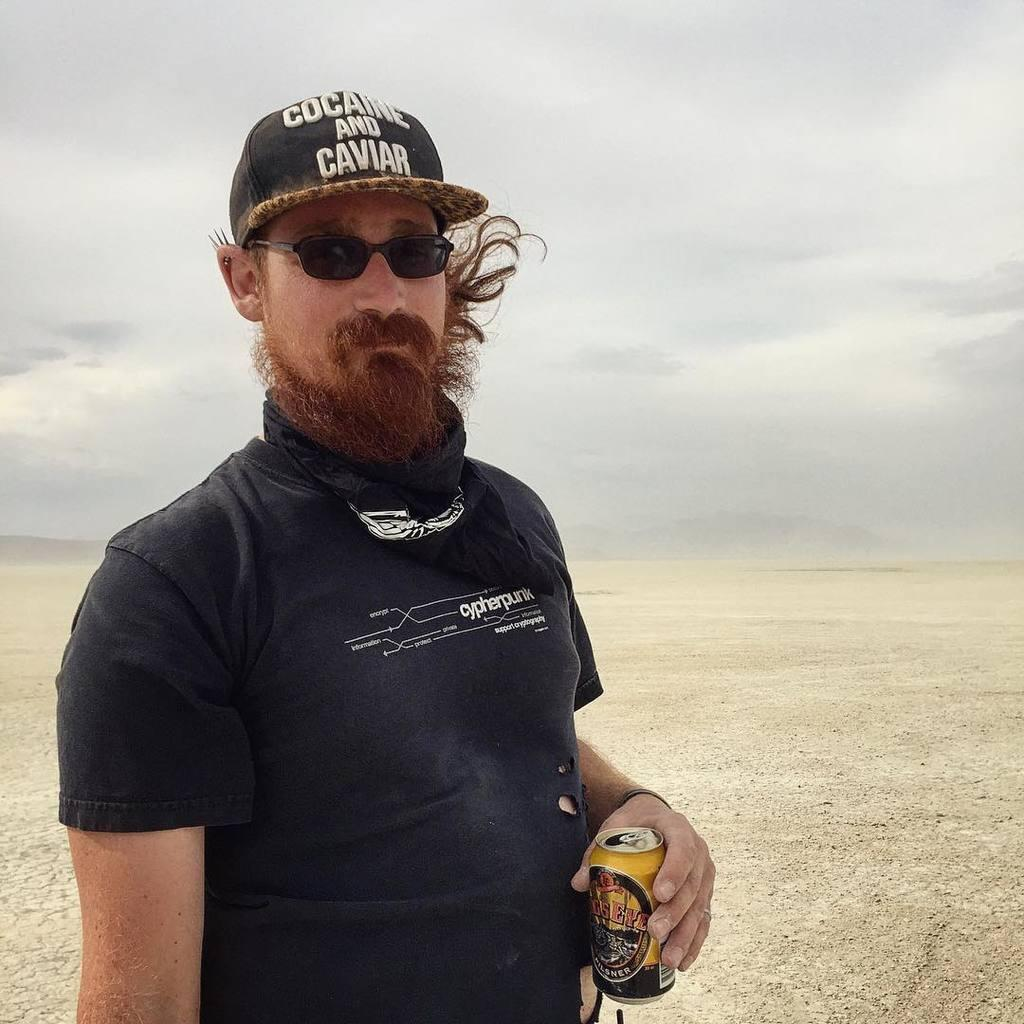Hat: (226, 85, 491, 230)
